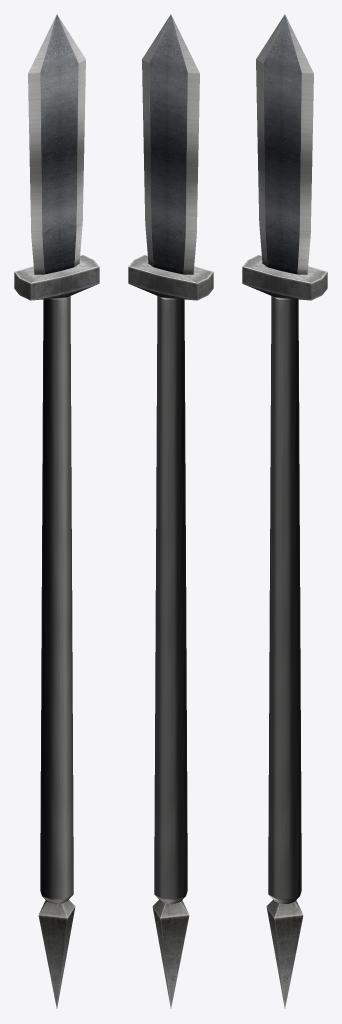
Rendered from spear02.FBX.
The picture shows the model from 3 angles, left to right: view 1: azimuth 30°, elevation 25°; view 2: azimuth 150°, elevation 25°; view 3: azimuth 330°, elevation 25°; orthographic projection.
Visible parts, largest first — view 1: Weapon1; view 2: Weapon1; view 3: Weapon1.
Boxes of the visible parts, <box> form: Weapon1: <box>14,14,99,1008</box>; Weapon1: <box>128,14,213,1008</box>; Weapon1: <box>242,14,327,1008</box>.
Size of the model in its own units: 9.96 by 4.92 by 127.
